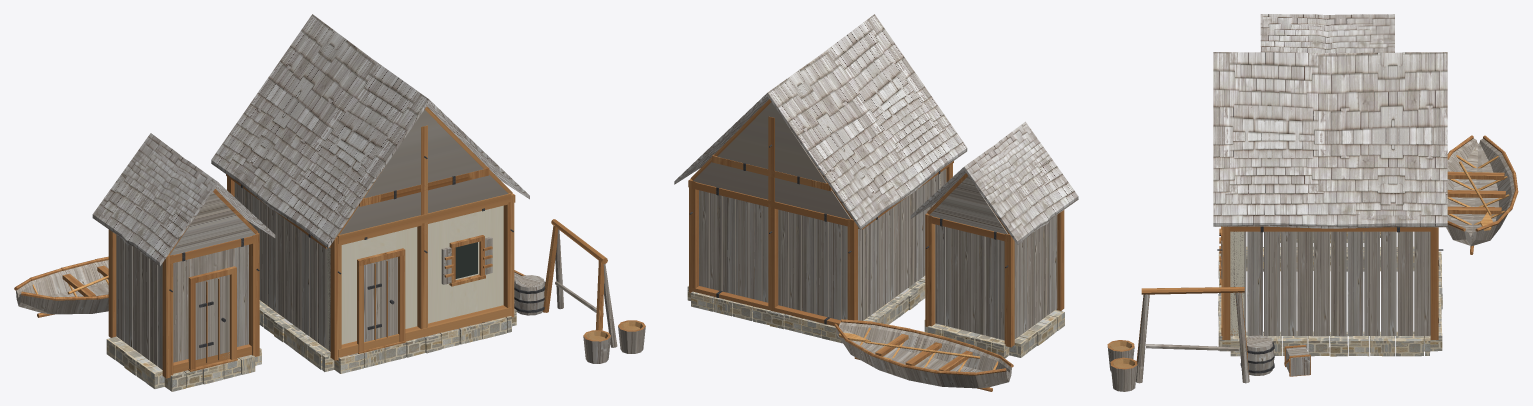
File: fishing_camp_textured_v4.glb
3 views of the same model, side by side, from view 1: azimuth 30°, elevation 25°; view 2: azimuth 150°, elevation 25°; view 3: azimuth 270°, elevation 25° (orthographic). The views are drawn at different scales.
Visible parts, largest first — view 1: FC_Main_Roof_Left, FC_Shed_Roof_Left, FC_Main_Front_Gable, FC_Main_Left_Plank_Wall, FC_Main_Front_Window_Host, FC_Main_Front_Door_Host, FC_Shed_Left_Wall, FC_Shed_Service_Door, FC_Main_Service_Door, FC_Shed_Front_Door_Host, FC_Grounded_River_Dugout, FC_Main_Foundation_Front (+19 smaller); view 2: FC_Main_Roof_Left, FC_Main_Rear_Plank_Wall, FC_Grounded_River_Dugout, FC_Shed_Roof_Left, FC_Main_Rear_Gable, FC_Shed_Rear_Wall, FC_Main_Left_Plank_Wall, FC_Shed_Left_Wall, FC_Main_Foundation_Rear, FC_Shed_Rear_Gable, FC_Main_Rear_Wall_Plate, FC_Shed_Rear_Left_Post (+14 smaller); view 3: FC_Main_Roof_Right, FC_Main_Right_Plank_Wall, FC_Grounded_River_Dugout, FC_Shed_Roof_Right, FC_Main_Foundation_Right, FC_Fish_Drying_Rack, FC_Main_Front_Window_Host, FC_Wash_Buckets, FC_Brine_Barrel, FC_Main_Rear_Post_3, FC_Main_Front_Post_3, FC_Main_Right_Wall_Plate (+4 smaller).
Part boxes in pixels (x1,y1,x2,y2): FC_Main_Roof_Left: (211, 14, 428, 248); FC_Shed_Roof_Left: (92, 133, 217, 266); FC_Main_Front_Gable: (336, 106, 512, 237); FC_Main_Left_Plank_Wall: (234, 182, 330, 351); FC_Main_Front_Window_Host: (425, 193, 511, 336); FC_Main_Front_Door_Host: (327, 214, 424, 357); FC_Shed_Left_Wall: (116, 235, 162, 369); FC_Shed_Service_Door: (188, 266, 237, 371); FC_Main_Service_Door: (357, 248, 406, 354); FC_Shed_Front_Door_Host: (173, 244, 251, 373); FC_Grounded_River_Dugout: (14, 256, 108, 317); FC_Main_Foundation_Front: (334, 316, 511, 373); FC_Main_Roof_Left: (767, 14, 967, 229); FC_Main_Rear_Plank_Wall: (699, 190, 847, 320); FC_Grounded_River_Dugout: (834, 319, 1013, 391); FC_Shed_Roof_Left: (964, 121, 1078, 244); FC_Main_Rear_Gable: (690, 99, 852, 219); FC_Shed_Rear_Wall: (935, 224, 1004, 340); FC_Main_Left_Plank_Wall: (858, 169, 945, 320); FC_Shed_Left_Wall: (1014, 215, 1057, 339); FC_Main_Foundation_Rear: (691, 291, 842, 343); FC_Shed_Rear_Gable: (927, 173, 1009, 234); FC_Main_Rear_Wall_Plate: (692, 182, 850, 226); FC_Shed_Rear_Left_Post: (1004, 233, 1014, 347); FC_Main_Roof_Right: (1213, 52, 1447, 228); FC_Main_Right_Plank_Wall: (1230, 231, 1429, 335); FC_Grounded_River_Dugout: (1446, 135, 1518, 254); FC_Shed_Roof_Right: (1260, 14, 1394, 52); FC_Main_Foundation_Right: (1230, 331, 1430, 356); FC_Fish_Drying_Rack: (1136, 287, 1249, 383); FC_Main_Front_Window_Host: (1221, 231, 1244, 335); FC_Wash_Buckets: (1107, 340, 1137, 391); FC_Brine_Barrel: (1240, 335, 1274, 375); FC_Main_Rear_Post_3: (1430, 227, 1443, 339); FC_Main_Front_Post_3: (1217, 226, 1230, 339); FC_Main_Right_Wall_Plate: (1230, 226, 1430, 232).
Bounding box in the file's own units: 10.42 × 5.69 × 8.21.
Materials: 13 (12 with a texture image).
